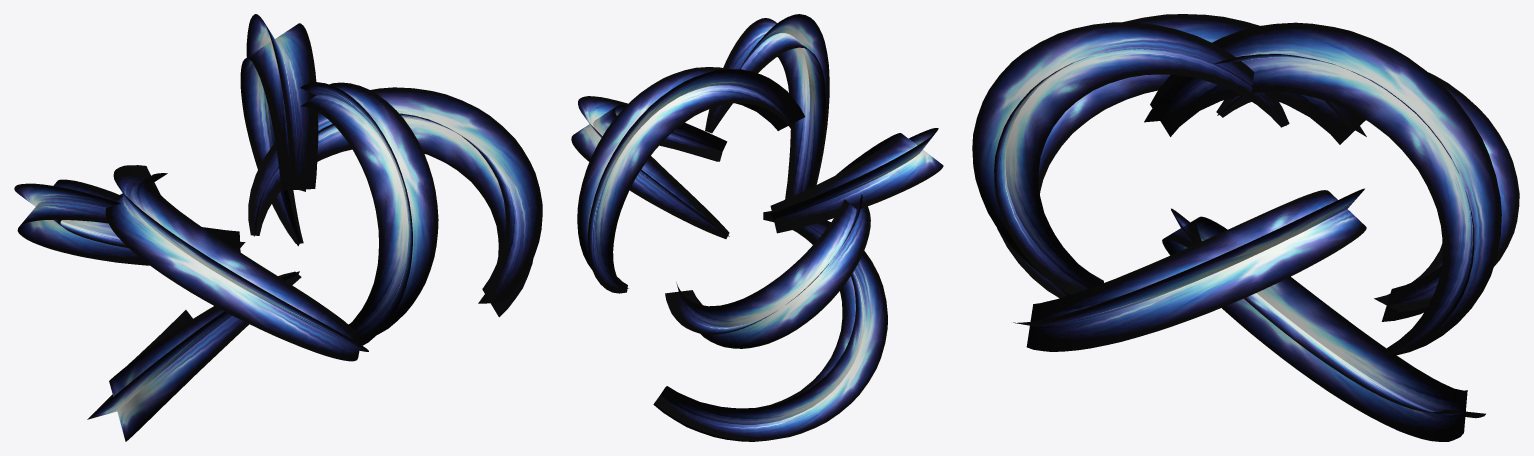
Rendered from guangshu #052150.fbx.
The picture shows the model from 3 angles, left to right: view 1: azimuth 30°, elevation 25°; view 2: azimuth 150°, elevation 25°; view 3: azimuth 270°, elevation 25°; orthographic projection. The views are drawn at different scales.
Parts seen in each view (by area): view 1: CY_04 (1), CY_04; view 2: CY_04, CY_04 (1); view 3: CY_04, CY_04 (1).
Boxes of the visible parts, left/top/right/bottom form: CY_04 (1): left=14, top=87, right=542, bottom=361; CY_04: left=87, top=14, right=438, bottom=441; CY_04: left=577, top=14, right=887, bottom=441; CY_04 (1): left=571, top=96, right=943, bottom=348; CY_04: left=972, top=22, right=1501, bottom=441; CY_04 (1): left=997, top=14, right=1519, bottom=351.
Bounding box in the file's own units: 3.89 × 3.61 × 3.89.
Materials: 2 (2 with a texture image).
